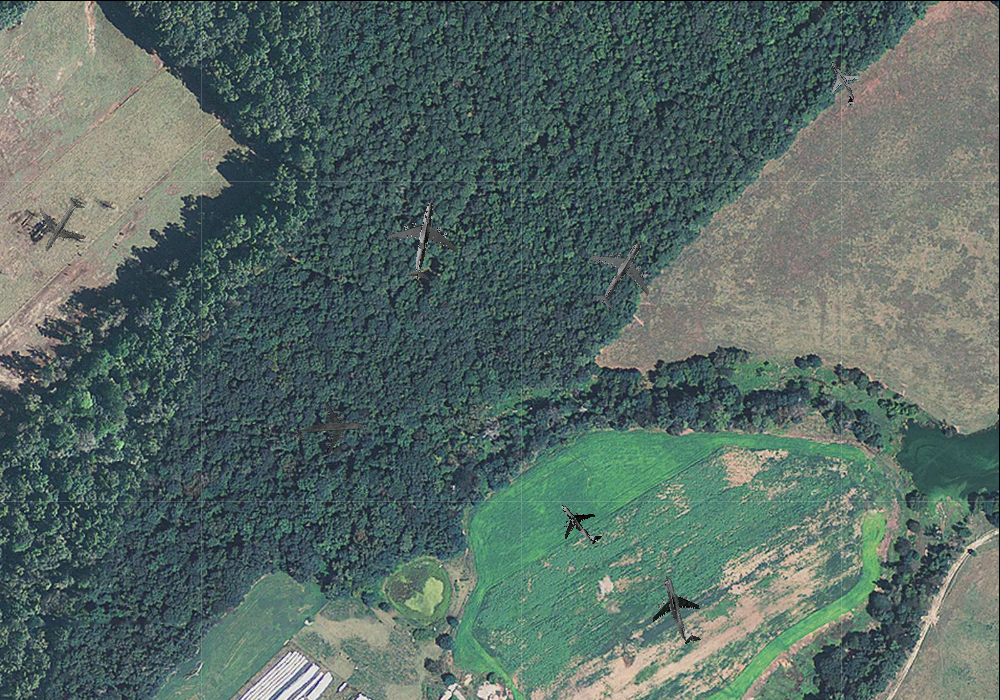plane: (572, 222, 670, 322), (380, 194, 467, 286), (640, 567, 718, 653), (21, 185, 101, 266), (292, 396, 366, 464), (546, 489, 613, 558), (813, 53, 872, 114)
